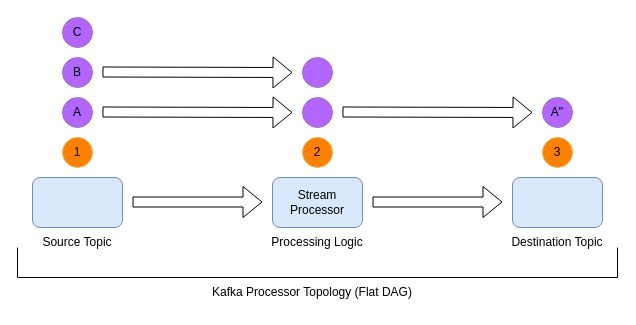
Some shapes in this 636 by 325 pixel diagram are drawn without their labels. Each missing label, with the box of its shape:
A': (302, 96, 332, 128)
B': (302, 56, 332, 88)
Sink Processor: (512, 176, 602, 228)
Source Processor: (32, 176, 122, 228)
